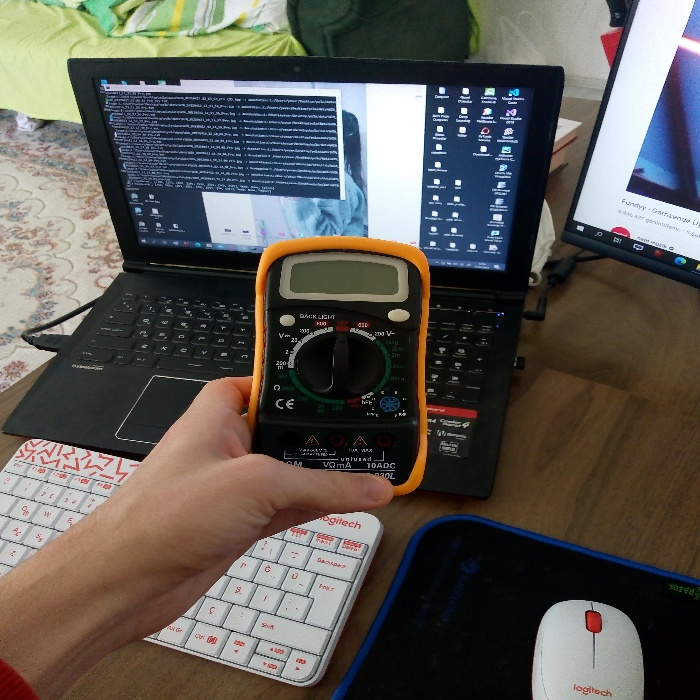multimetre: (237, 225, 440, 498)
